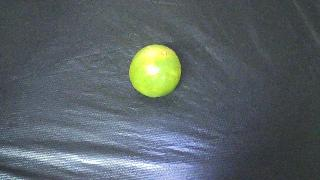LOCAL: (129, 44, 181, 97)
